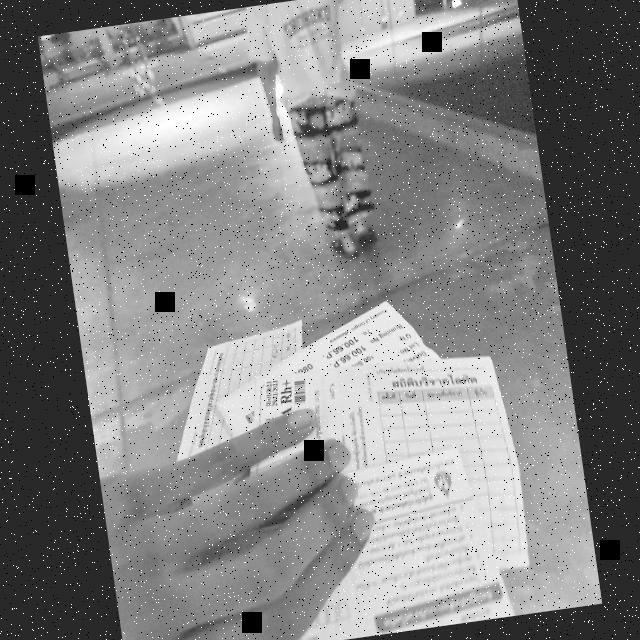scrap_paper: (330, 344, 536, 588), (277, 441, 516, 640), (216, 290, 462, 474), (160, 304, 324, 490)
